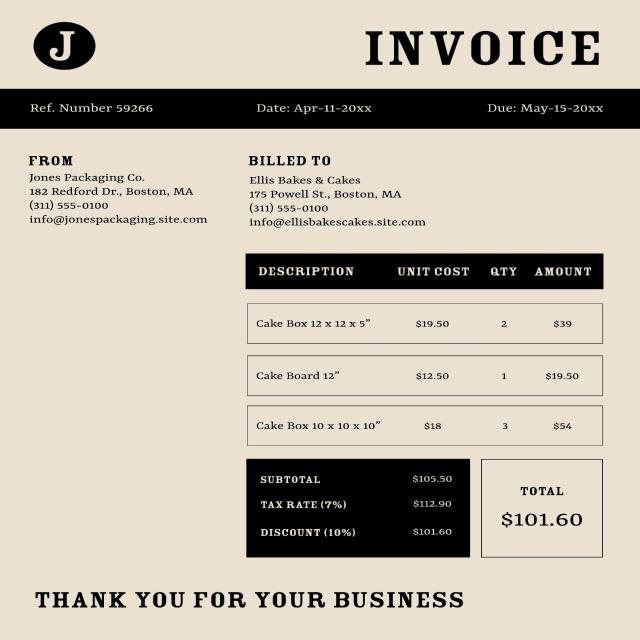paragraph: (228, 458, 474, 564), (10, 142, 214, 236), (232, 144, 446, 231), (30, 585, 472, 627), (355, 18, 615, 75), (483, 461, 607, 552), (11, 86, 189, 127), (240, 88, 388, 131), (475, 90, 623, 132), (20, 16, 109, 77), (230, 456, 232, 464)
table: (234, 245, 610, 450)
